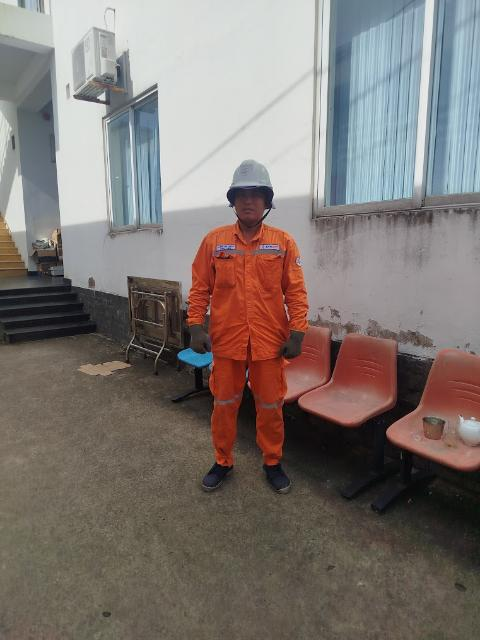gloves: (170, 320, 225, 357), (275, 321, 317, 362)
helmet: (224, 155, 278, 208)
shoes: (180, 452, 242, 502), (260, 445, 307, 510)
